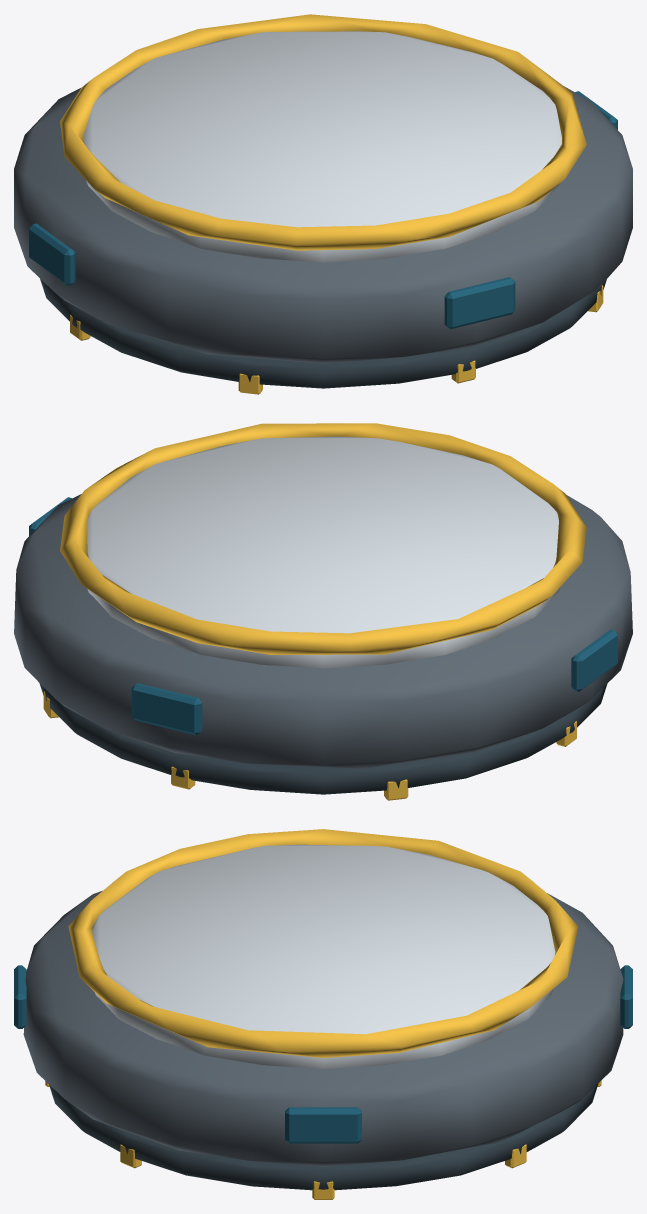
Rendered from perilune-pilot-chip.glb.
3 renders of one model, top to bottom at view 1: azimuth 30°, elevation 25°; view 2: azimuth 150°, elevation 25°; view 3: azimuth 270°, elevation 25°, orthographic. The views are drawn at different scales.
Visible parts, largest first — view 1: SM_Core_Pilot_Top, SM_Core_Pilot_Main, SM_Core_Pilot_GoldBus, SM_Core_Pilot_Base, SM_Core_Pilot_Sensor_01, SM_Core_Pilot_Sensor_04; view 2: SM_Core_Pilot_Top, SM_Core_Pilot_Main, SM_Core_Pilot_GoldBus, SM_Core_Pilot_Base, SM_Core_Pilot_Sensor_03, SM_Core_Pilot_Sensor_04; view 3: SM_Core_Pilot_Top, SM_Core_Pilot_Main, SM_Core_Pilot_GoldBus, SM_Core_Pilot_Base, SM_Core_Pilot_Sensor_02, SM_Core_Pilot_Sensor_01, SM_Core_Pilot_Sensor_03.
Part boxes in pixels (bbox=[...]): SM_Core_Pilot_Top: bbox=[83, 31, 561, 262]; SM_Core_Pilot_Main: bbox=[14, 86, 632, 363]; SM_Core_Pilot_GoldBus: bbox=[60, 14, 586, 250]; SM_Core_Pilot_Base: bbox=[40, 279, 606, 388]; SM_Core_Pilot_Sensor_01: bbox=[444, 277, 515, 329]; SM_Core_Pilot_Sensor_04: bbox=[29, 223, 75, 285]; SM_Core_Pilot_Top: bbox=[87, 436, 560, 668]; SM_Core_Pilot_Main: bbox=[14, 494, 632, 769]; SM_Core_Pilot_GoldBus: bbox=[60, 423, 586, 654]; SM_Core_Pilot_Base: bbox=[39, 683, 607, 794]; SM_Core_Pilot_Sensor_03: bbox=[131, 683, 202, 735]; SM_Core_Pilot_Sensor_04: bbox=[571, 629, 617, 691]; SM_Core_Pilot_Top: bbox=[92, 844, 555, 1068]; SM_Core_Pilot_Main: bbox=[23, 890, 623, 1166]; SM_Core_Pilot_GoldBus: bbox=[68, 829, 578, 1057]; SM_Core_Pilot_Base: bbox=[49, 1083, 598, 1190]; SM_Core_Pilot_Sensor_02: bbox=[285, 1107, 361, 1143]; SM_Core_Pilot_Sensor_01: bbox=[14, 965, 26, 1028]; SM_Core_Pilot_Sensor_03: bbox=[620, 965, 632, 1028].
Size of the model in its own units: 0.888 by 0.2397 by 0.888.
